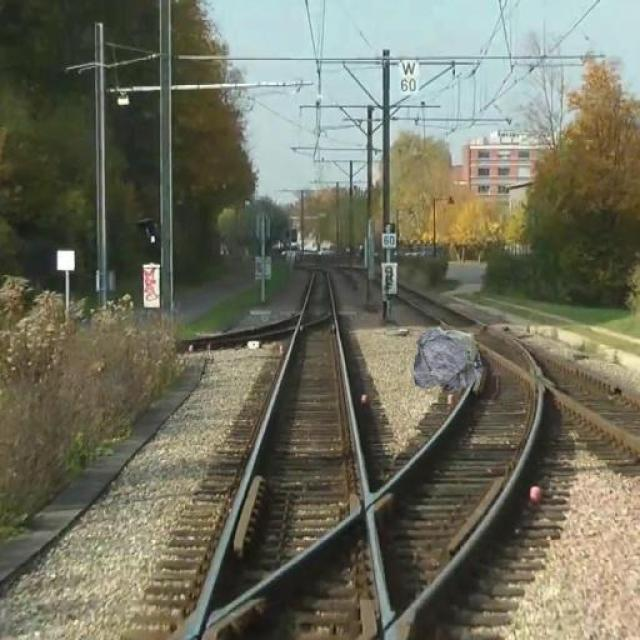Stone: (410, 322, 487, 397)
